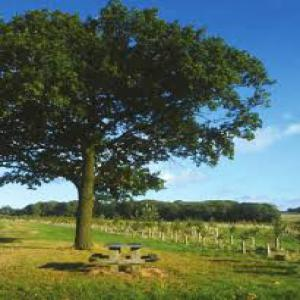Tree: (0, 2, 275, 252)
